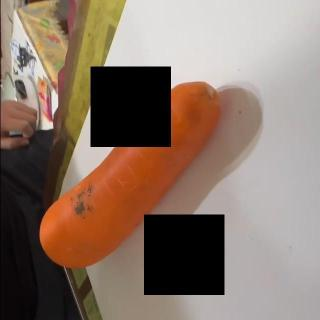carrot: (37, 74, 223, 270)
